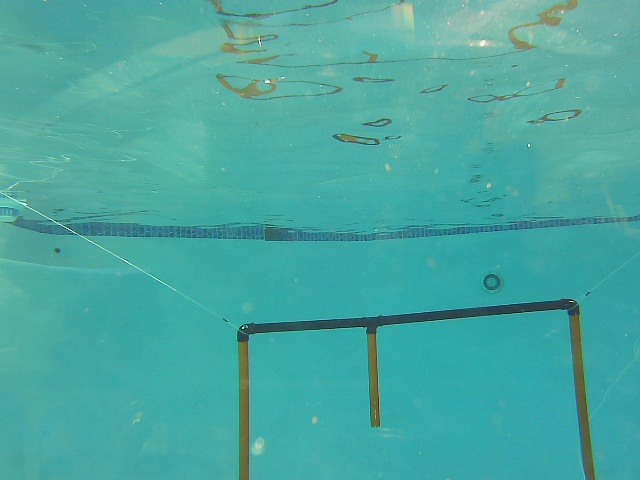Gate: (568, 308, 598, 480), (237, 337, 251, 480), (364, 325, 381, 428)
